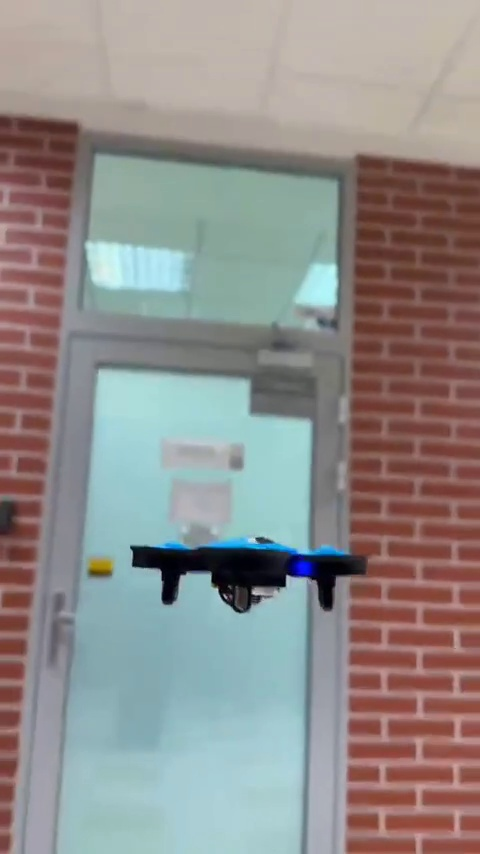drone: (120, 533, 367, 619)
